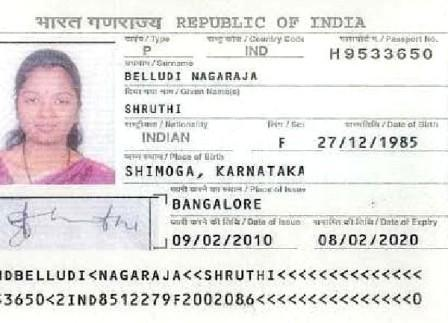DOB: (313, 133, 423, 150)
Surname: (121, 67, 299, 83)
country_code: (241, 42, 269, 60)
date_of_expiry: (315, 231, 422, 249)
date_of_issue: (172, 232, 276, 247)
details: (5, 267, 429, 312)
name: (124, 100, 187, 116)
nationality: (140, 131, 191, 144)
passport_no: (328, 47, 436, 62)
photo: (1, 34, 117, 194)
place_of_birth: (123, 160, 316, 179)
place_of_issue: (170, 196, 267, 212)
sex: (274, 134, 292, 150)
sign: (7, 203, 143, 244)
type: (141, 42, 154, 57)
